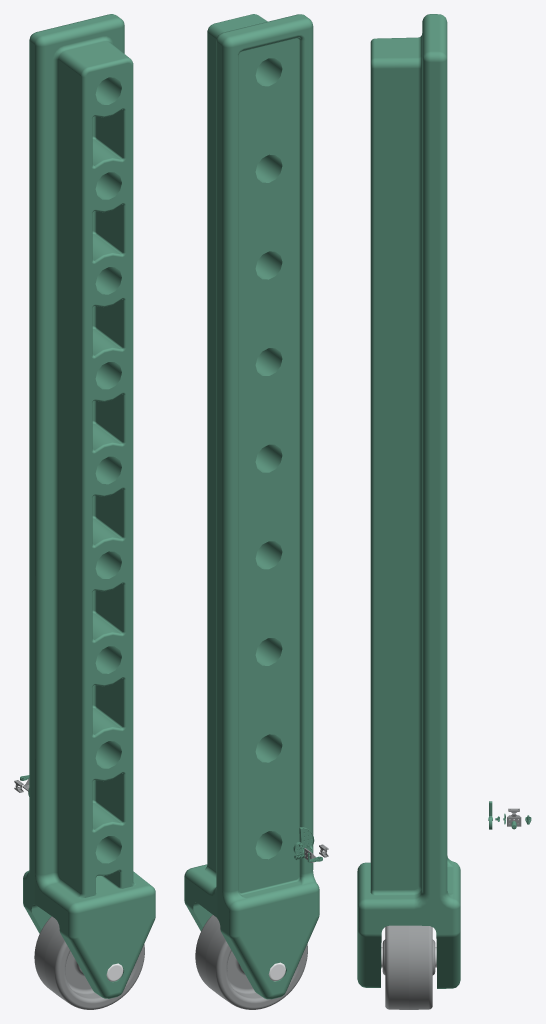
The model's file is Advancedmechanics.fbx.
3 renders of one model, left to right at view 1: azimuth 30°, elevation 25°; view 2: azimuth 210°, elevation 25°; view 3: azimuth 270°, elevation 25°, orthographic.
Visible parts, largest first — view 1: Cam Follower; view 2: Cam Follower; view 3: Cam Follower.
Part boxes in pixels (bbox=[...]): Cam Follower: bbox=[23, 14, 155, 1009]; Cam Follower: bbox=[184, 14, 319, 1009]; Cam Follower: bbox=[357, 14, 460, 1009].
Bounding box in the file's own units: 1270 × 2101 × 12953.
